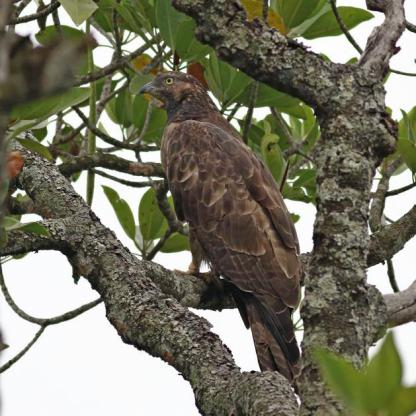Burung: (138, 69, 312, 388)
